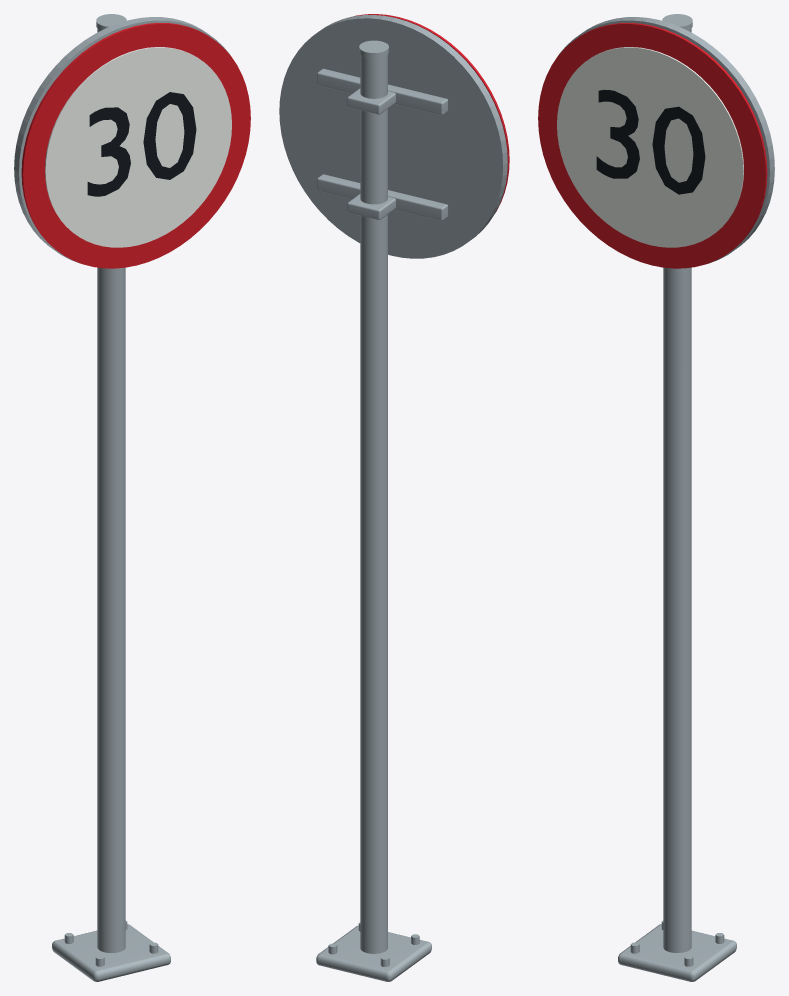
Rendered from DS_Sign_Speed30.fbx.
The picture shows the model from 3 angles, left to right: view 1: azimuth 30°, elevation 25°; view 2: azimuth 150°, elevation 25°; view 3: azimuth 330°, elevation 25°; orthographic projection. The views are drawn at different scales.
Parts seen in each view (by area): view 1: Face_Field.003, Post.003, Face_Border.003, Legend_30, BasePlate.003, Plate_Back.003; view 2: Plate_Back.003, Post.003, BasePlate.003, RearRail.007, RearRail.006, PostClamp.007, PostClamp.006, Face_Border.003; view 3: Face_Field.003, Post.003, Face_Border.003, Legend_30, BasePlate.003, Plate_Back.003.
Part boxes in pixels (x1,y1,x2,y2): Face_Field.003: (45,47,231,247); Post.003: (97,28,125,952); Face_Border.003: (21,23,250,268); Legend_30: (87,92,196,196); BasePlate.003: (52,924,170,981); Plate_Back.003: (14,17,230,263); Plate_Back.003: (279,15,507,258); Post.003: (360,55,387,953); BasePlate.003: (316,925,431,981); RearRail.007: (317,68,448,115); RearRail.006: (317,174,448,220); PostClamp.007: (347,88,395,114); PostClamp.006: (347,194,395,219); Face_Border.003: (354,14,509,212); Face_Field.003: (557,47,743,247); Post.003: (663,28,691,952); Face_Border.003: (538,23,767,268); Legend_30: (596,89,705,194); BasePlate.003: (618,924,736,981); Plate_Back.003: (558,17,774,263).
Size of the model in its own units: 71 by 281 by 27.27.
